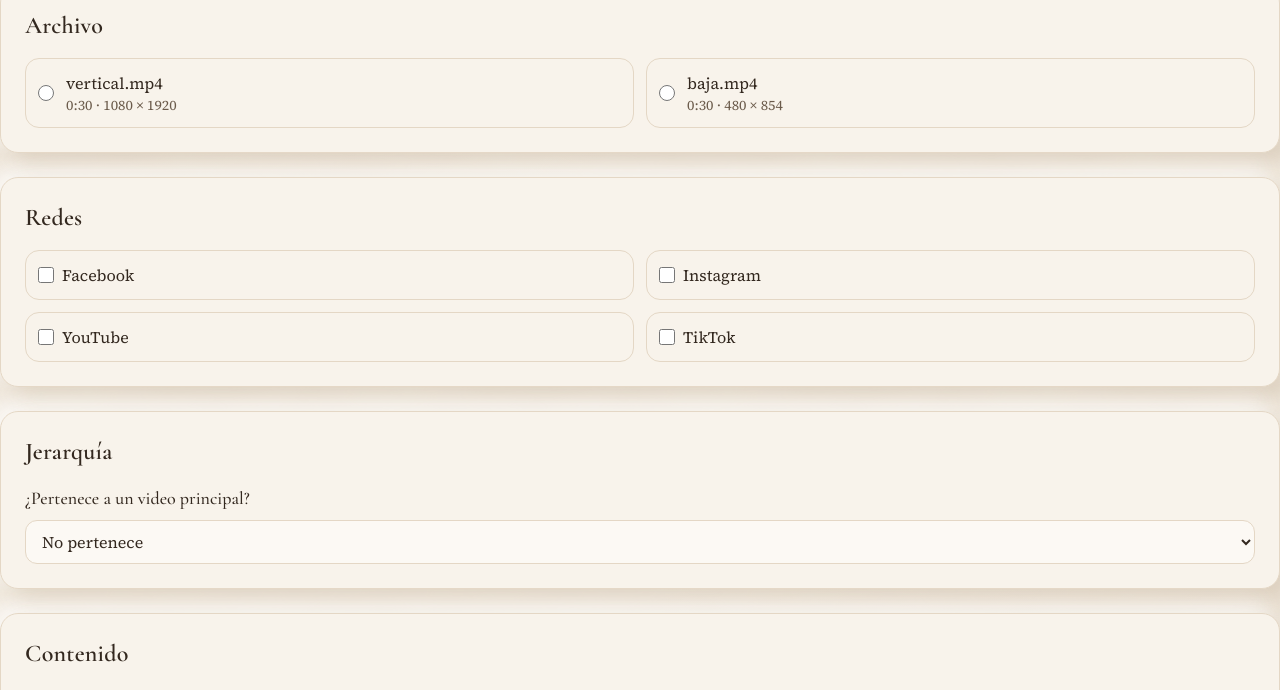
Test: muestra los campos de YouTube solo con YouTube elegido
Expected: the field labelled "Descripción de YouTube" is not shown
Click the checkbox labelled "YouTube": (46, 337) [38,329,54,345]
(page scrolled)
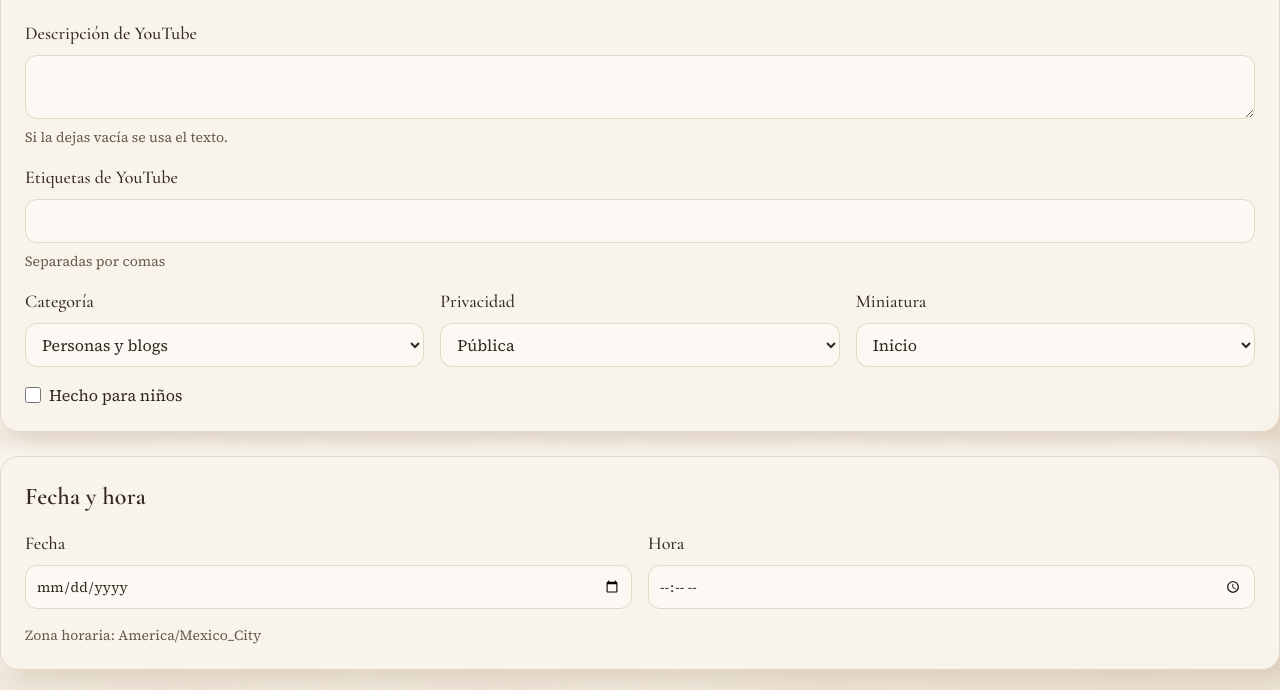
Expected: the text box labelled "Descripción de YouTube" is shown, [25,55,1255,119]
Expected: the field labelled "Etiquetas de YouTube" is shown, [25,199,1255,243]
Expected: the dropdown labelled "Categoría" is shown, [25,323,424,367]
